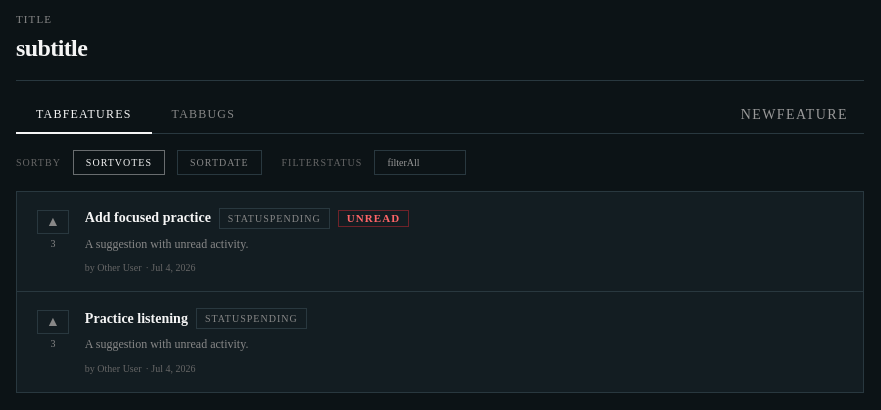
Test: FeedbackPage list and entry actions › opens the correct entry through its named primary action
Click the button "Practice listening". click: [136, 318]
box: x1=85 y1=308 x2=843 y2=376
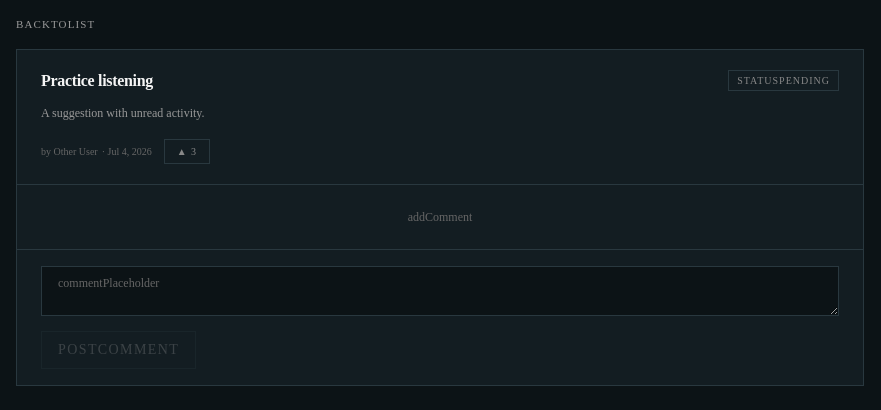
Expected: the heading "Practice listening" is shown, x1=41 y1=72 x2=153 y2=88
Expected: the text box with placeholder "commentPlaceholder" is shown, x1=41 y1=266 x2=839 y2=316
Expected: the button "Add focused practice" is gone
